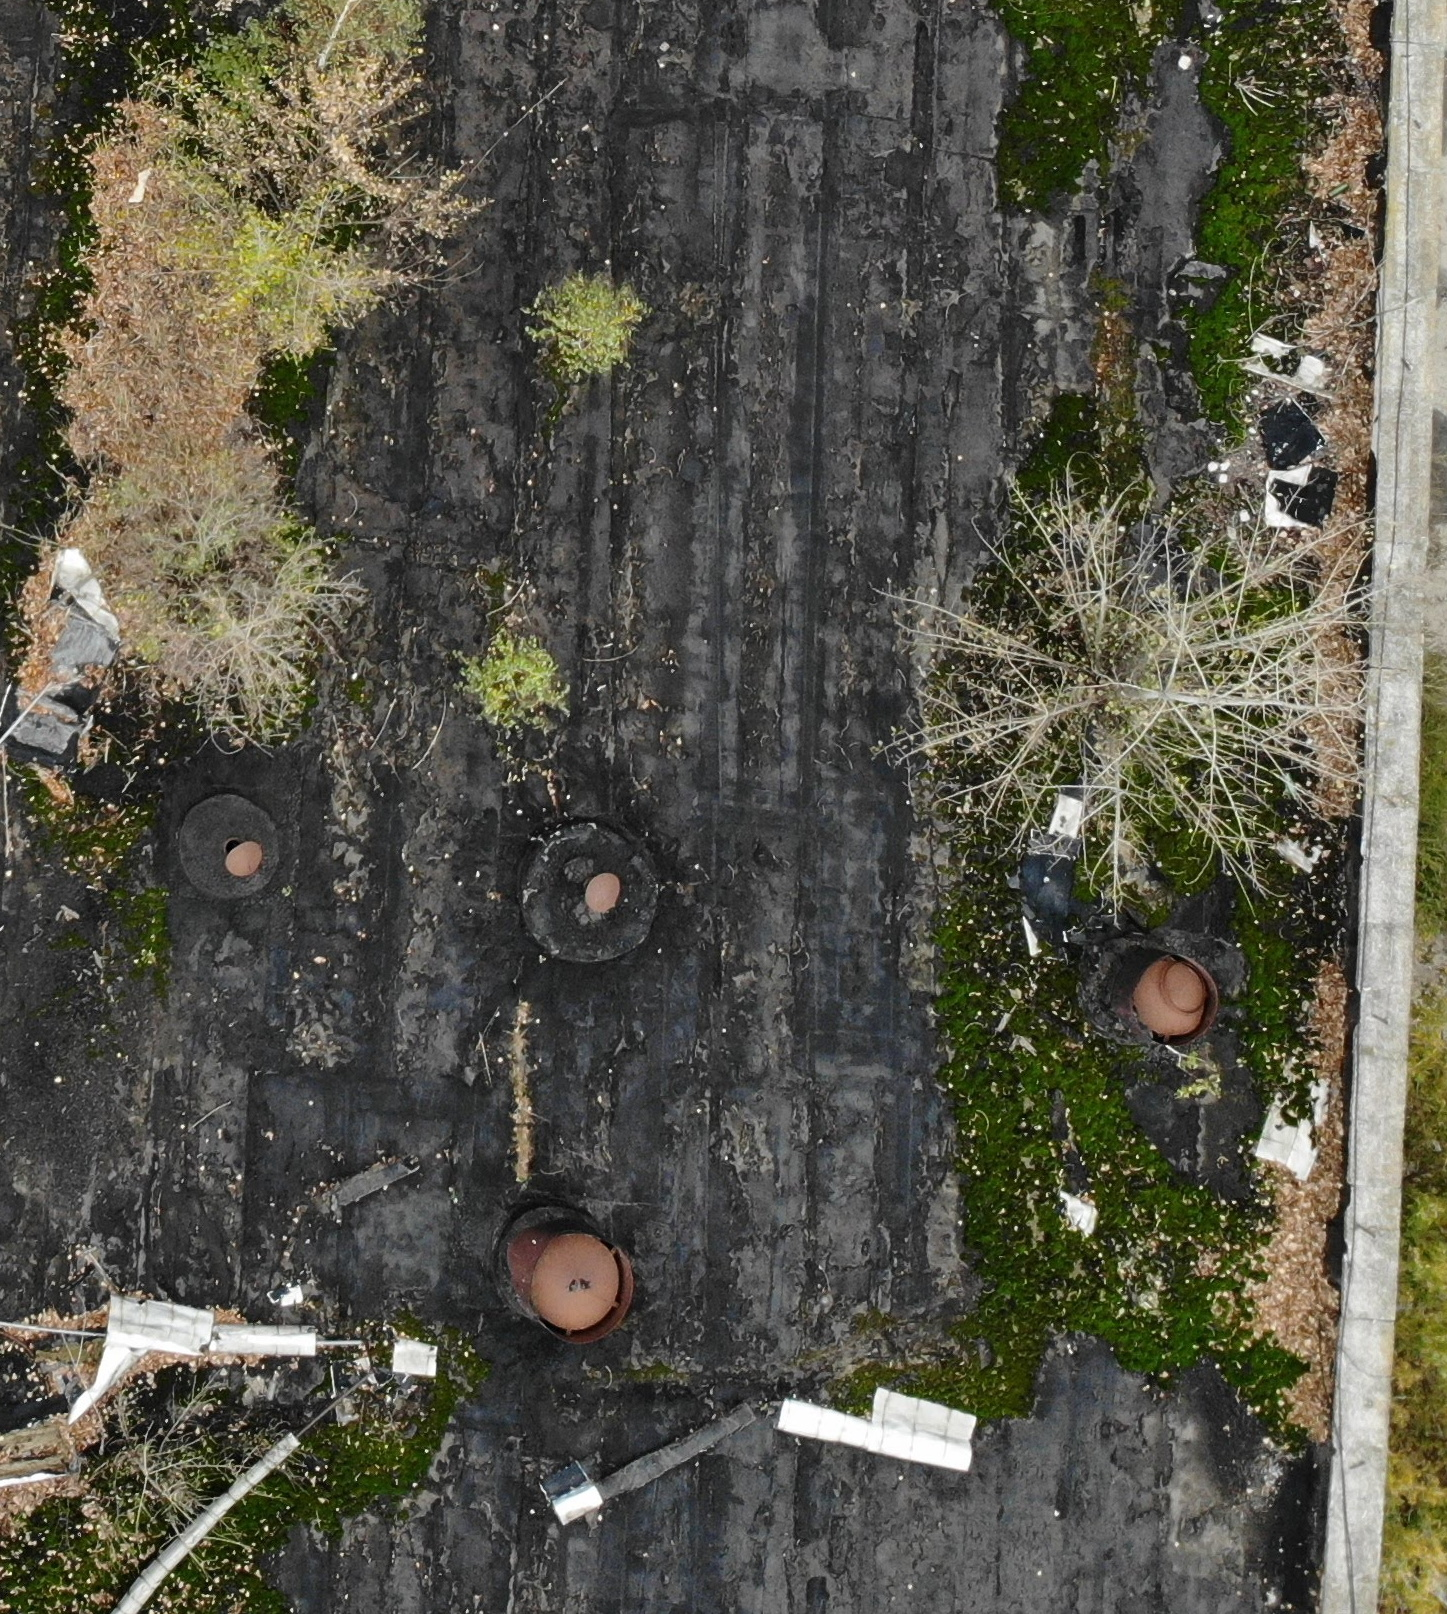tree: (888, 410, 1402, 944), (47, 134, 320, 511), (154, 480, 365, 799), (191, 155, 395, 417), (88, 1319, 270, 1574), (446, 605, 608, 775), (514, 249, 669, 423)
